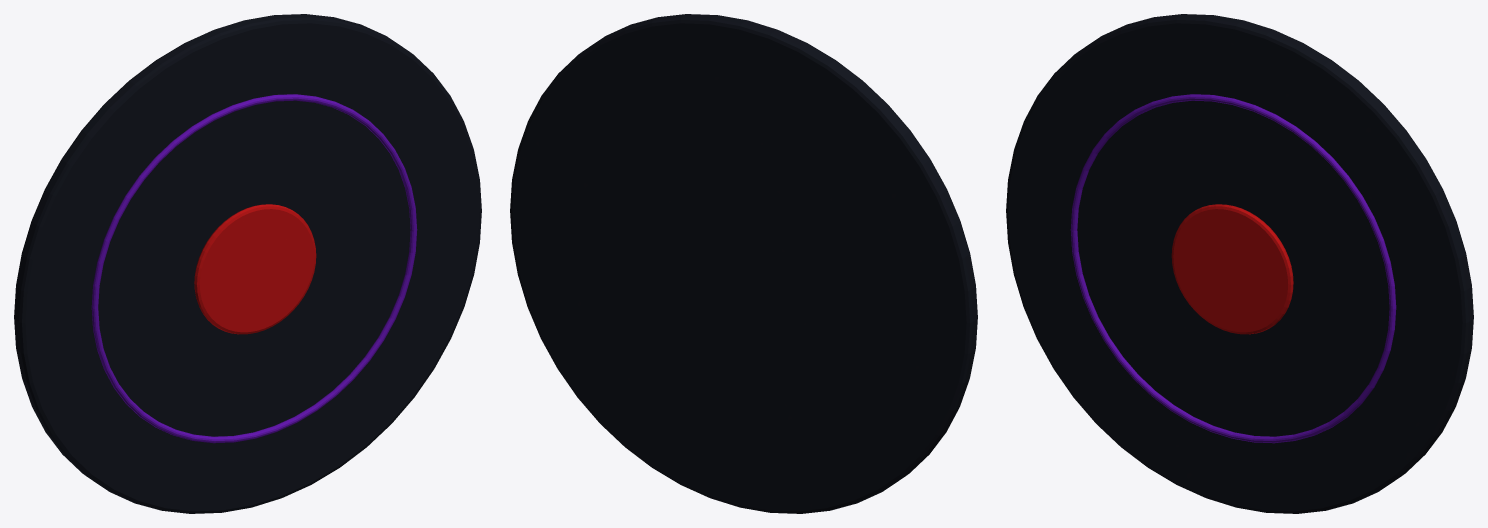
The model's file is vinyle-premiere-edition.glb.
3 renders of one model, left to right at view 1: azimuth 30°, elevation 25°; view 2: azimuth 150°, elevation 25°; view 3: azimuth 330°, elevation 25°, orthographic.
Visible parts, largest first — view 1: Disque, Label, Sillon; view 2: Disque; view 3: Disque, Label, Sillon.
Part boxes in pixels (box(x1,y1,x2,y2)): Disque: box(14, 14, 481, 513); Label: box(194, 204, 316, 334); Sillon: box(91, 94, 417, 443); Disque: box(510, 14, 977, 513); Disque: box(1006, 14, 1473, 513); Label: box(1171, 204, 1293, 334); Sillon: box(1070, 94, 1396, 443).
Size of the model in its own units: 2.9 by 2.9 by 0.15.
3 materials, 3 textured.
